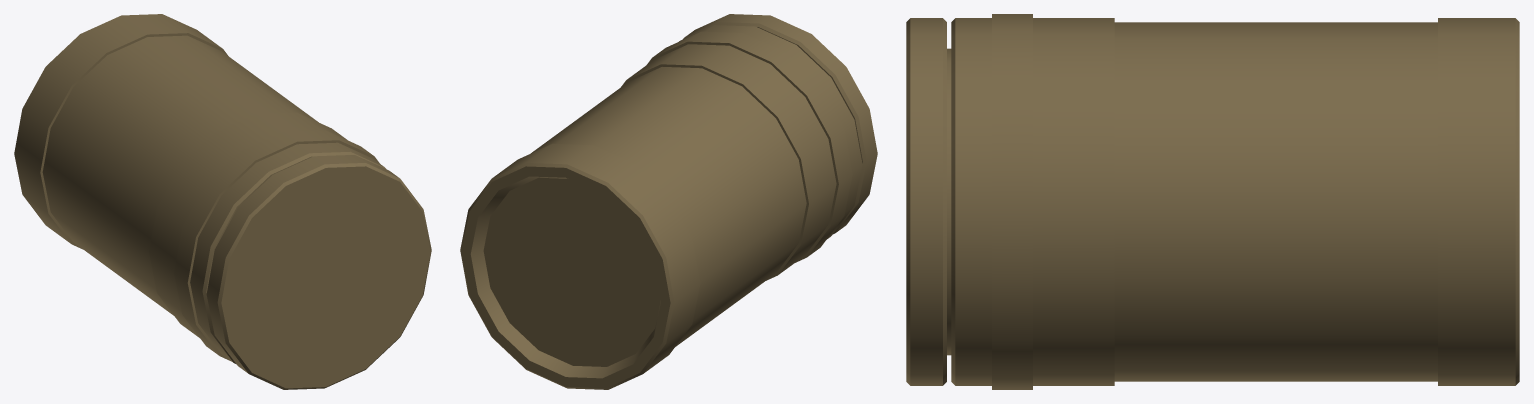
File: he_bullet_M1028.fbx
The picture shows the model from 3 angles, left to right: view 1: azimuth 30°, elevation 25°; view 2: azimuth 150°, elevation 25°; view 3: azimuth 270°, elevation 25°; orthographic projection. The views are drawn at different scales.
Parts seen in each view (by area): view 1: Cylinder.001; view 2: Cylinder.001; view 3: Cylinder.001.
Boxes of the visible parts, box(x1,y1,x2,y2) form: Cylinder.001: box(14, 14, 431, 389); Cylinder.001: box(460, 14, 877, 389); Cylinder.001: box(906, 14, 1519, 389).
Bounding box in the file's own units: 92 × 92 × 150.
